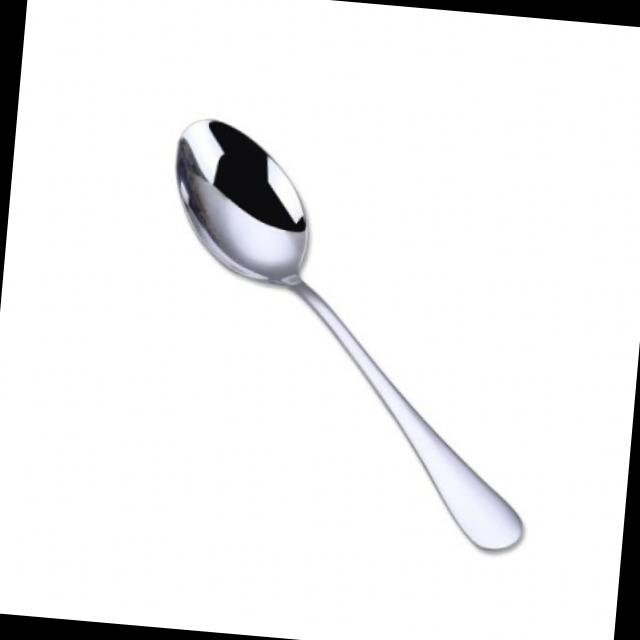spoon: (124, 87, 577, 584)
